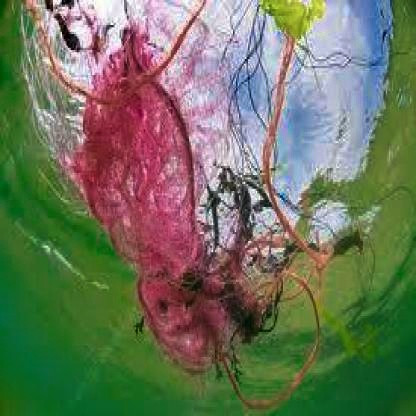net: (38, 9, 328, 398)
